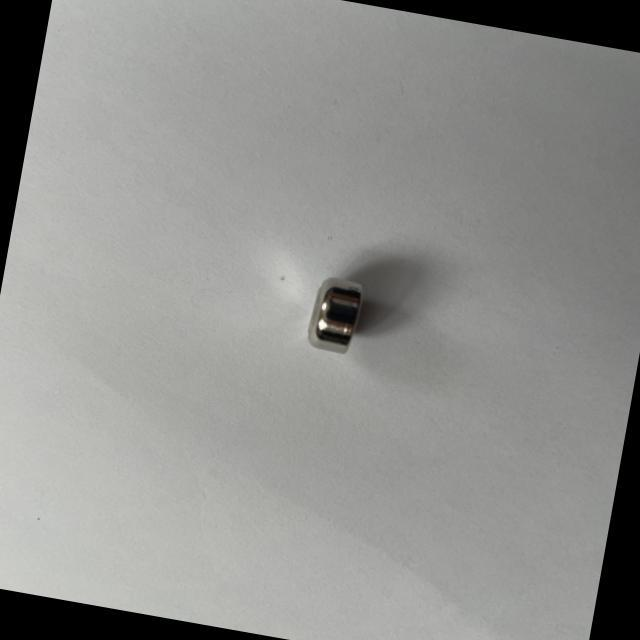COIN: (294, 264, 372, 367)
